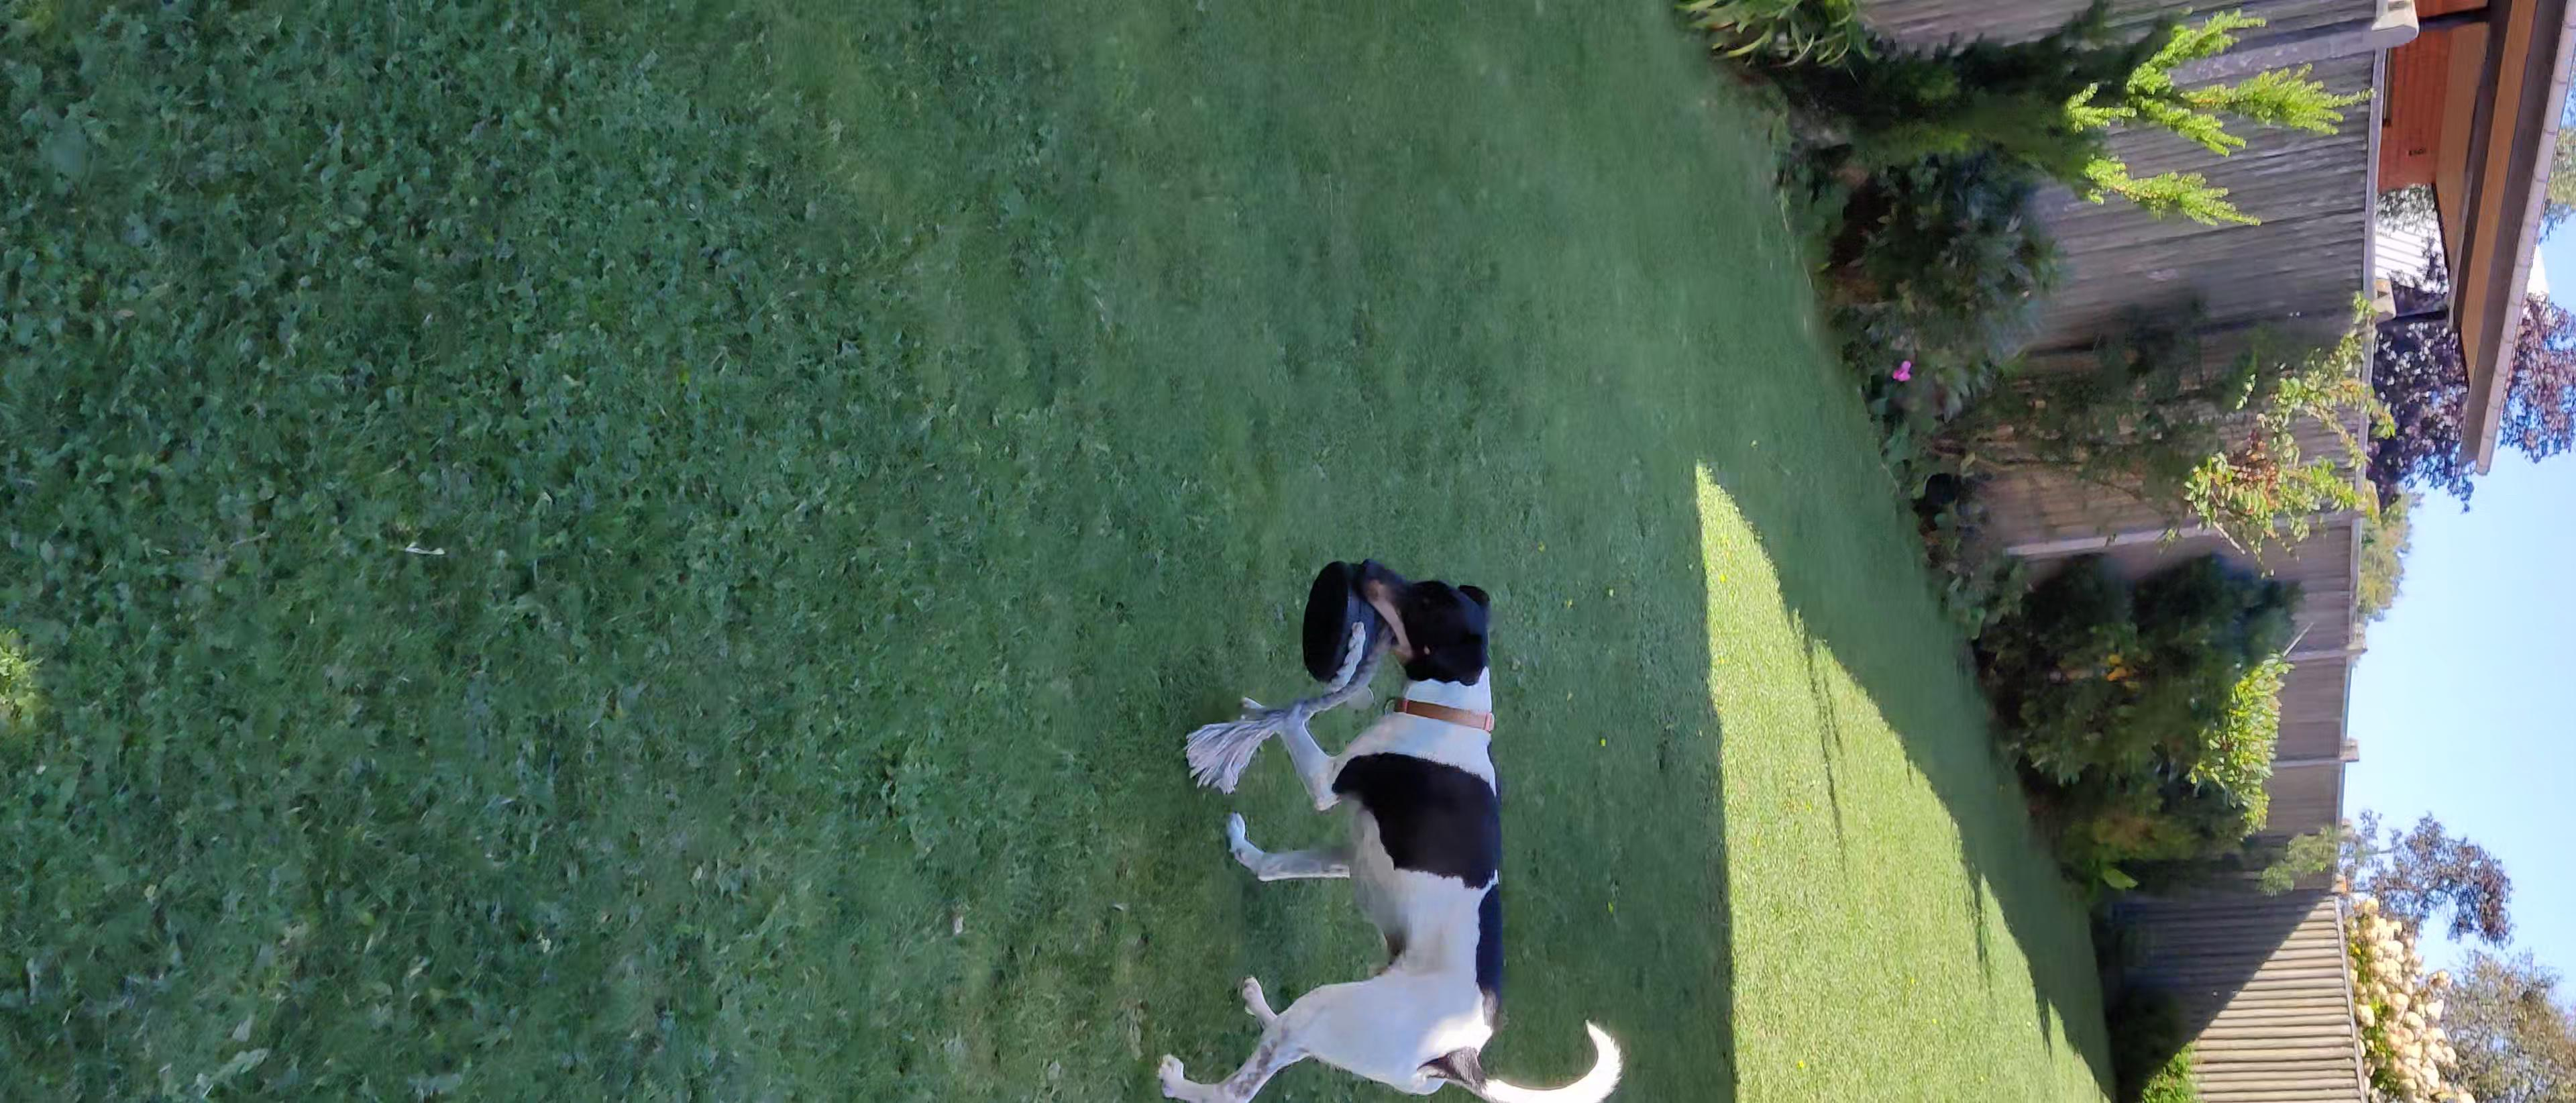Dog: (1142, 547, 1636, 1103)
